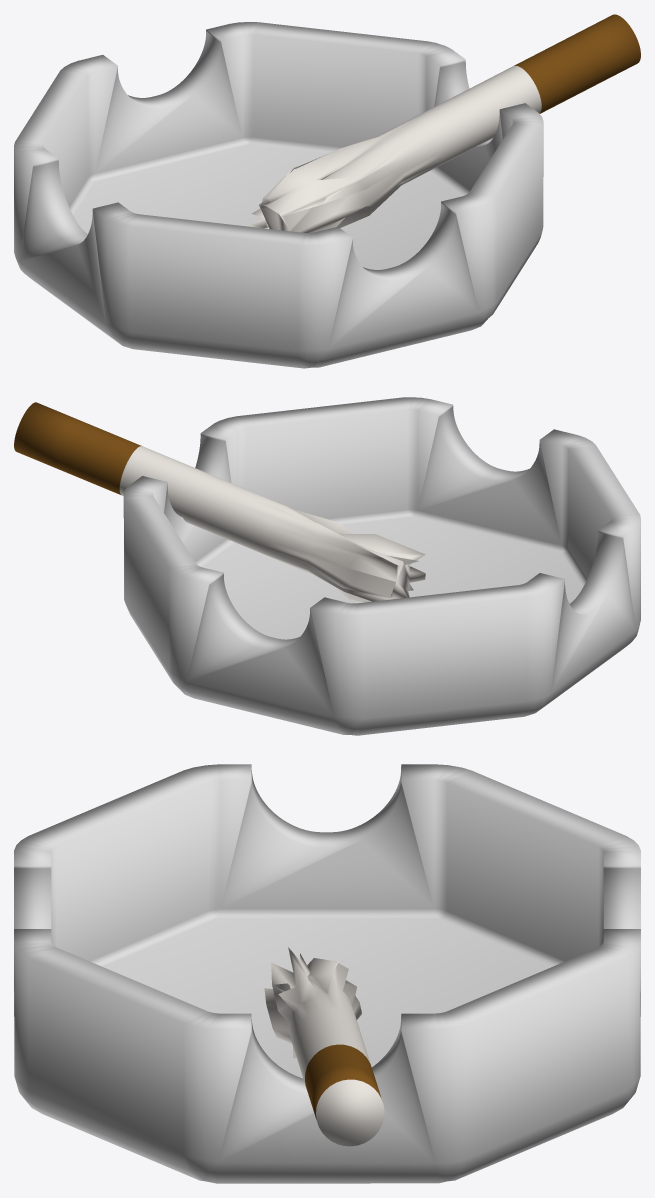
File: ashtray.glb
The picture shows the model from 3 angles, top to bottom: view 1: azimuth 30°, elevation 25°; view 2: azimuth 150°, elevation 25°; view 3: azimuth 270°, elevation 25°; orthographic projection. The views are drawn at different scales.
Visible parts, largest first — view 1: asbak, udud; view 2: asbak, udud; view 3: asbak, udud.
Part boxes in pixels (x1,y1,x2,y2): asbak: (14, 22, 543, 368); udud: (249, 14, 640, 232); asbak: (123, 397, 640, 735); udud: (14, 402, 425, 602); asbak: (14, 764, 640, 1183); udud: (264, 947, 384, 1146).
Bounding box in the file's own units: 21.9 × 5.8 × 16.43.
